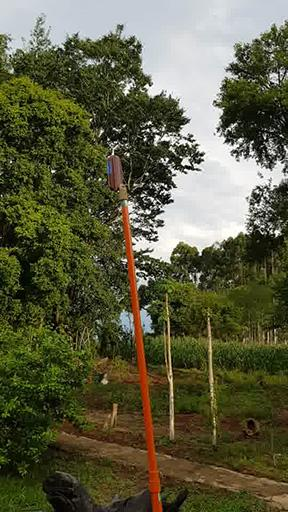Detector_Tensao_Contato: (105, 141, 126, 195)
Vara_Manobra: (119, 191, 163, 512)
